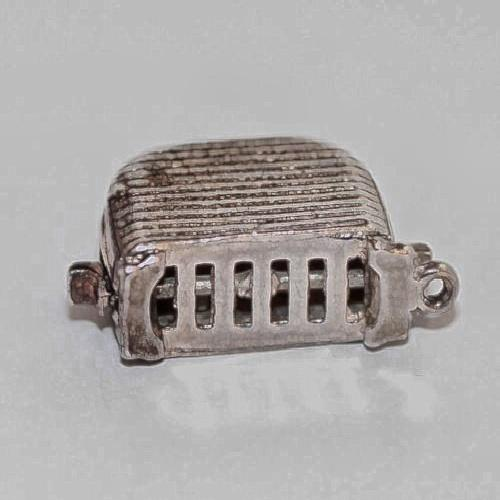toaster: (69, 130, 471, 370)
